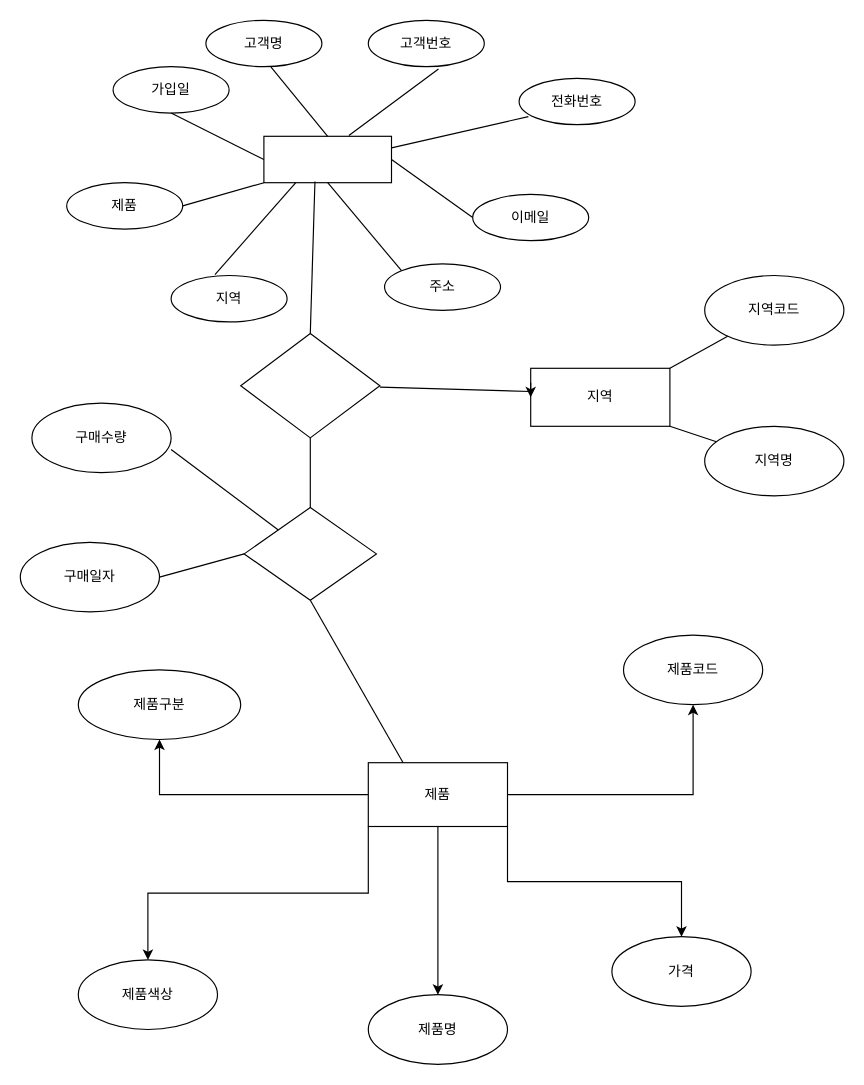
Image size: 864x1085. Some labels were removed from this diagram. Each missing label, with the centre of its shape:
"고객" belongs at point (327, 159).
"관리" belongs at point (310, 385).
"구매" belongs at point (309, 553).
